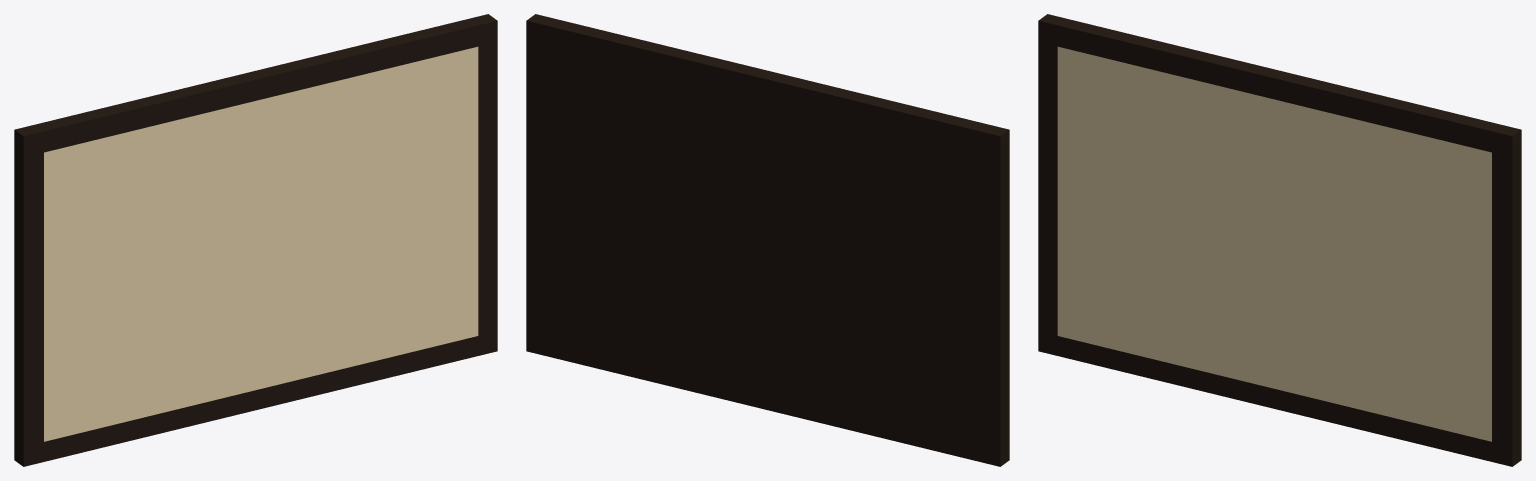
Rendered from buc_hoa_thuy_mac.glb.
3 views of the same model, side by side, from view 1: azimuth 30°, elevation 25°; view 2: azimuth 150°, elevation 25°; view 3: azimuth 330°, elevation 25° (orthographic).
Visible parts, largest first — view 1: Mesh_1, Mesh_0; view 2: Mesh_0; view 3: Mesh_1, Mesh_0.
Boxes of the visible parts, left/top/right/bottom form: Mesh_1: left=44, top=46, right=478, bottom=441; Mesh_0: left=14, top=14, right=497, bottom=466; Mesh_0: left=526, top=14, right=1009, bottom=466; Mesh_1: left=1057, top=46, right=1491, bottom=441; Mesh_0: left=1038, top=14, right=1521, bottom=466.
Bounding box in the file's own units: 2.4 × 1.6 × 0.085.
